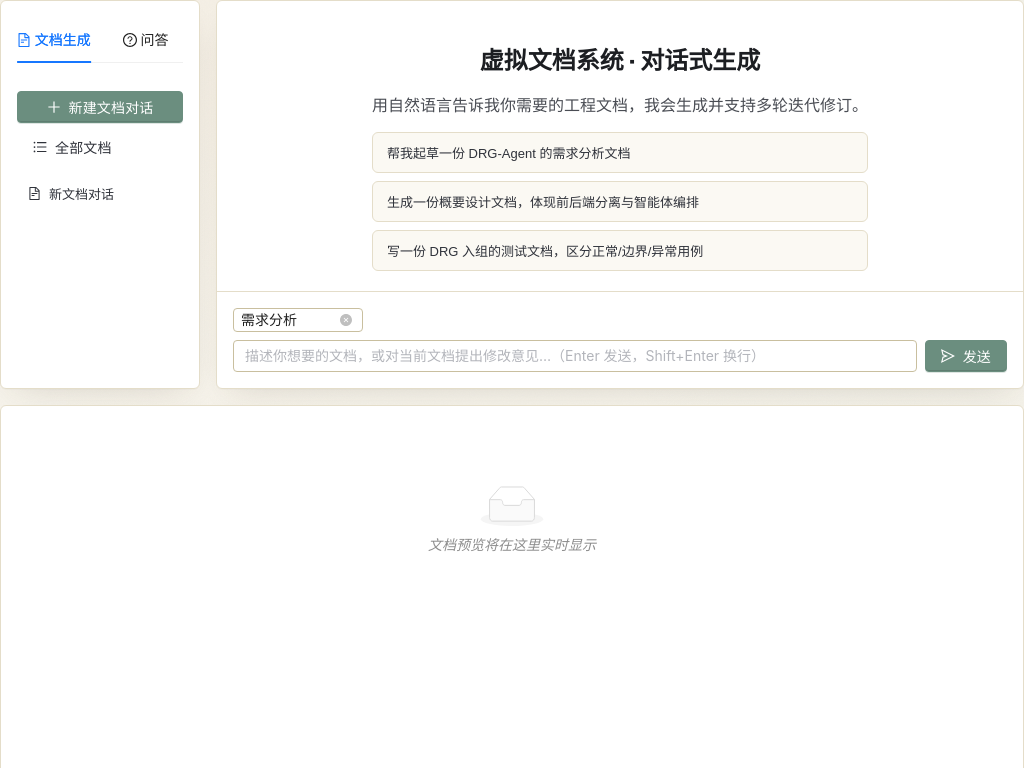
DocumentSystem (对话工作台) › renders QA answer markdown (bold + table) properly
Note: 切到问答 Tab
Click the tab "问答" at [146, 40], box [123,29,169,51]
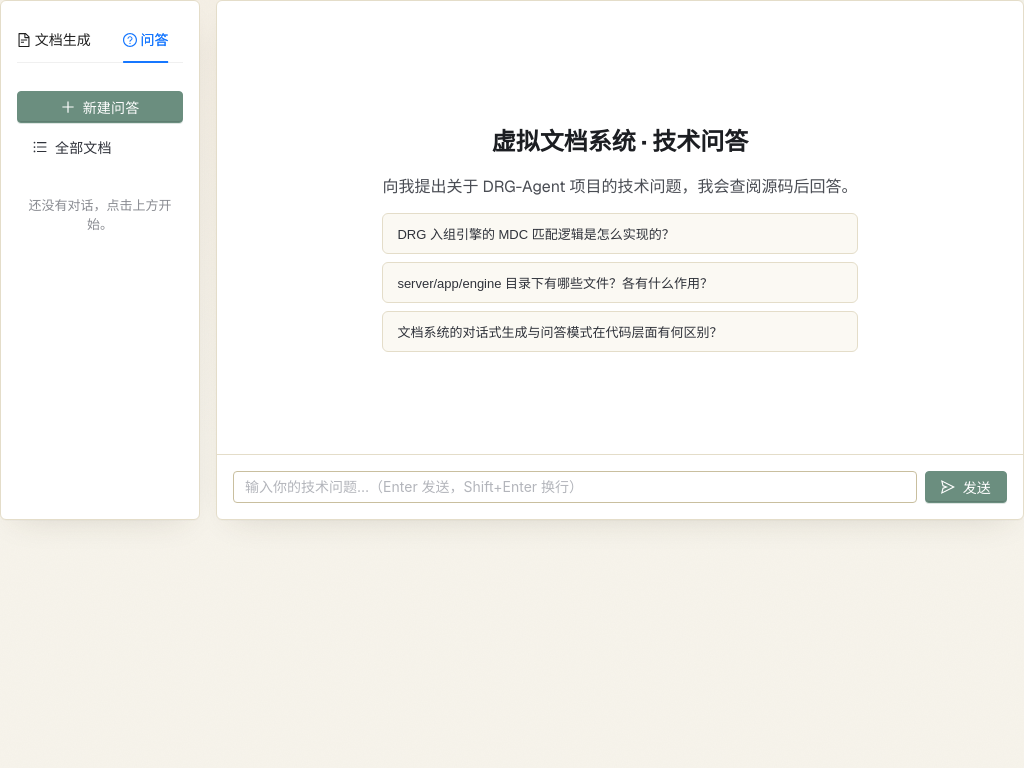
Check: the element with class "doc-chat" has class "doc-chat--qa"
Type "MDC 匹配怎么实现" into the text box with placeholder "输入你的技术问题…（Enter 发送，Shift+Enter 换行）" at [575, 487], box [233,471,917,503]
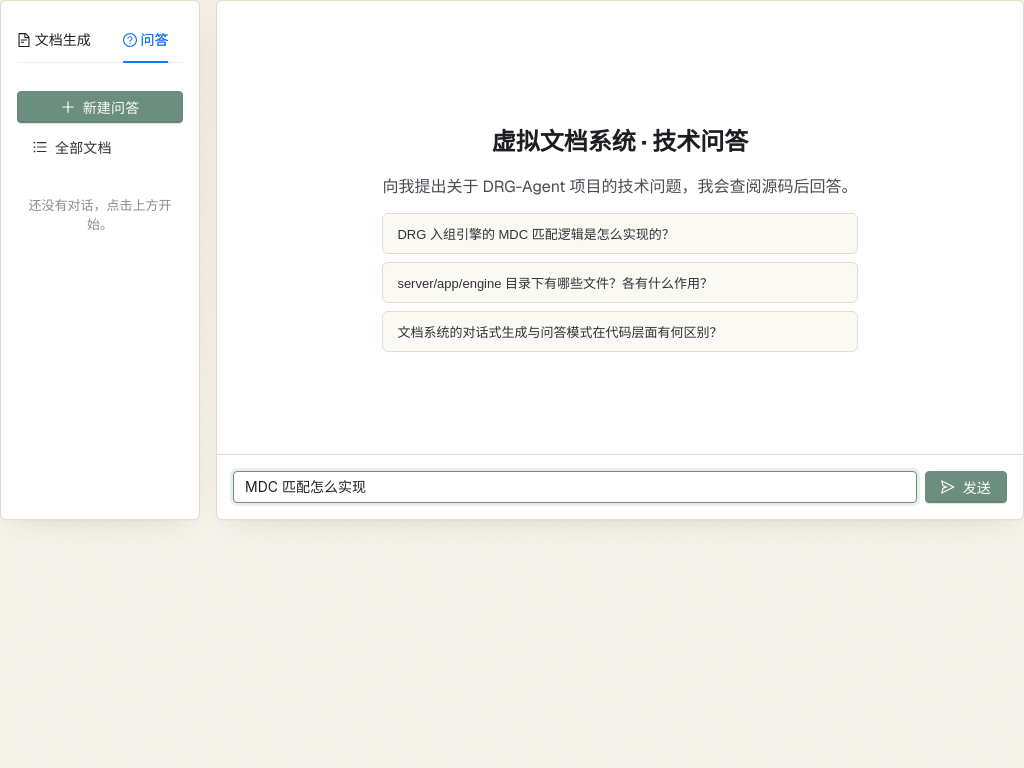
Click the button "发送" at [966, 487], box [925,471,1007,503]
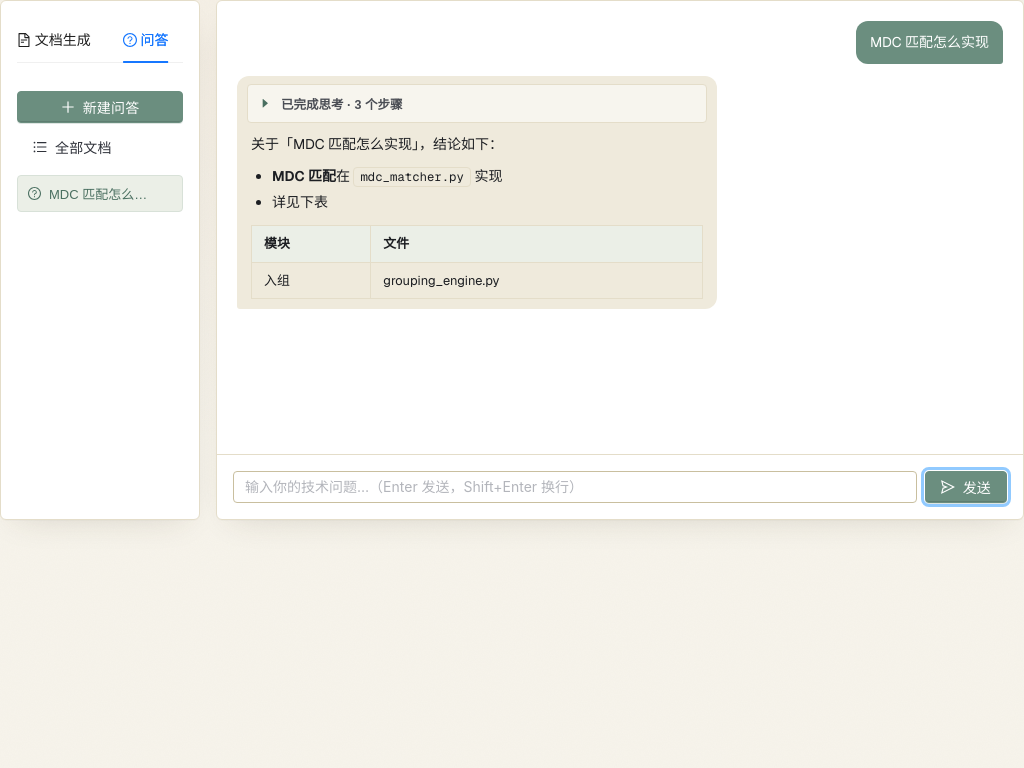
Check: the column heading "文件" is shown, box [371,226,702,262]
Check: the text "MDC 匹配" is shown, box [272,167,336,185]
Check: the table is shown, box [251,226,703,299]
